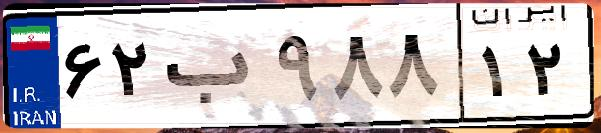1: (475, 38, 525, 113)
2: (525, 38, 570, 115), (110, 28, 158, 98)
6: (57, 26, 110, 100)
8: (385, 28, 445, 110), (330, 28, 385, 110)
9: (270, 28, 330, 110)
ب: (158, 20, 270, 120)
